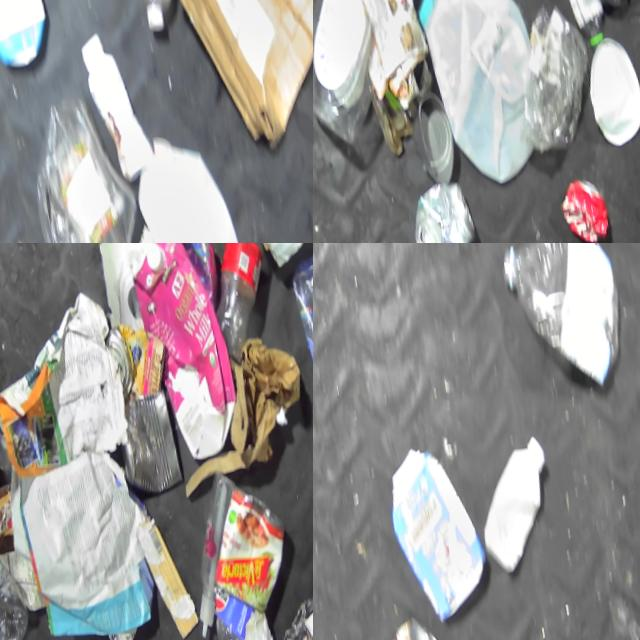can: (115, 389, 184, 498), (103, 322, 172, 405), (410, 90, 459, 188), (408, 178, 481, 243), (557, 175, 614, 243), (371, 611, 459, 640)
milk_jug: (413, 0, 550, 194), (129, 126, 250, 243)
non_white_jug: (124, 243, 248, 468), (380, 438, 499, 633), (21, 88, 150, 243)
plastic_bottle: (496, 243, 634, 405), (198, 243, 280, 365), (287, 248, 313, 491), (0, 506, 36, 640)
